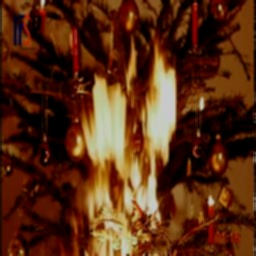fire: (79, 50, 182, 216)
